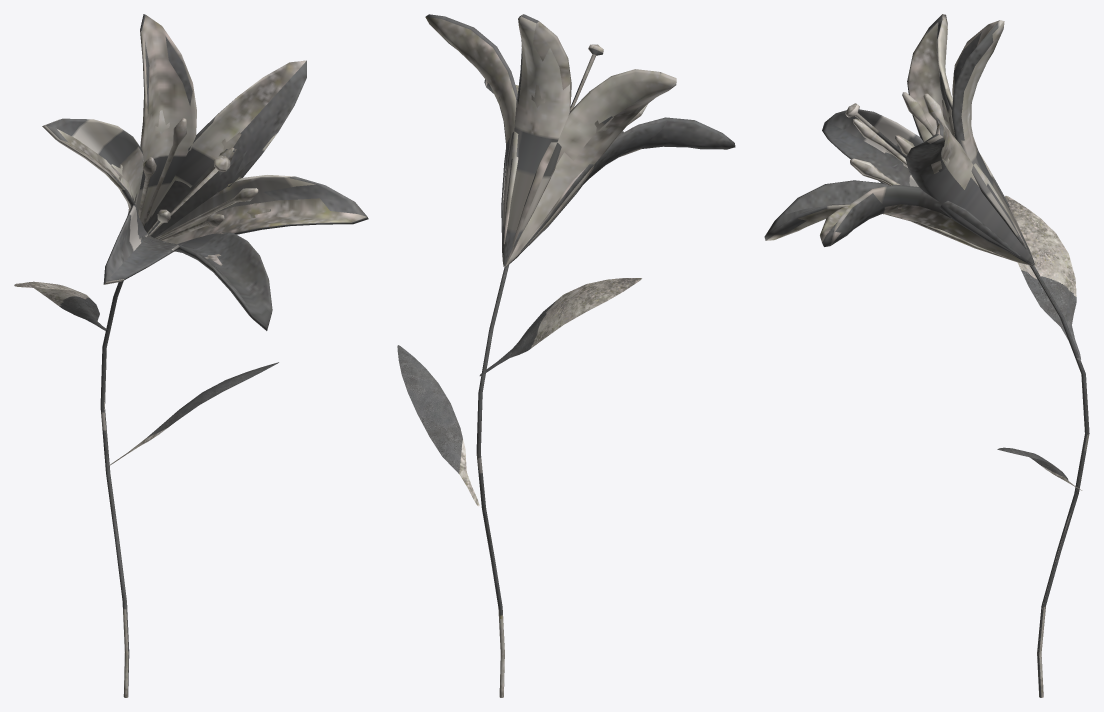
File: Yuri.fbx
3 renders of one model, left to right at view 1: azimuth 30°, elevation 25°; view 2: azimuth 150°, elevation 25°; view 3: azimuth 270°, elevation 25°, orthographic. The views are drawn at different scales.
Parts seen in each view (by area): view 1: Yuri.001, Yuri.002, Yuri; view 2: Yuri.001, Yuri.002, Yuri; view 3: Yuri.001, Yuri.002, Yuri.
Boxes of the visible parts, left/top/right/bottom form: Yuri.001: left=42, top=14, right=368, bottom=330; Yuri.002: left=14, top=281, right=278, bottom=465; Yuri: left=100, top=281, right=129, bottom=697; Yuri.001: left=425, top=14, right=735, bottom=266; Yuri.002: left=397, top=278, right=641, bottom=506; Yuri: left=476, top=264, right=509, bottom=697; Yuri.001: left=764, top=14, right=1034, bottom=265; Yuri.002: left=997, top=196, right=1082, bottom=490; Yuri: left=1029, top=264, right=1089, bottom=697.
Bounding box in the file's own units: 683 × 1723 × 751.
